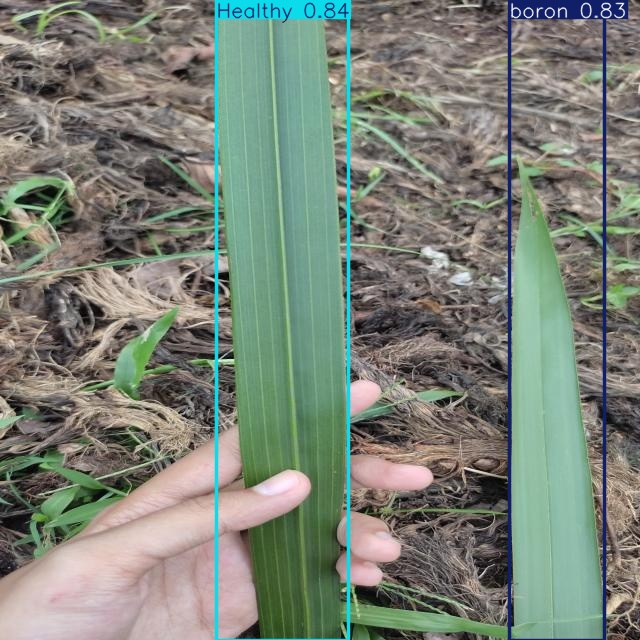Healthy: (216, 0, 348, 640)
nitrogen: (510, 0, 605, 640)
